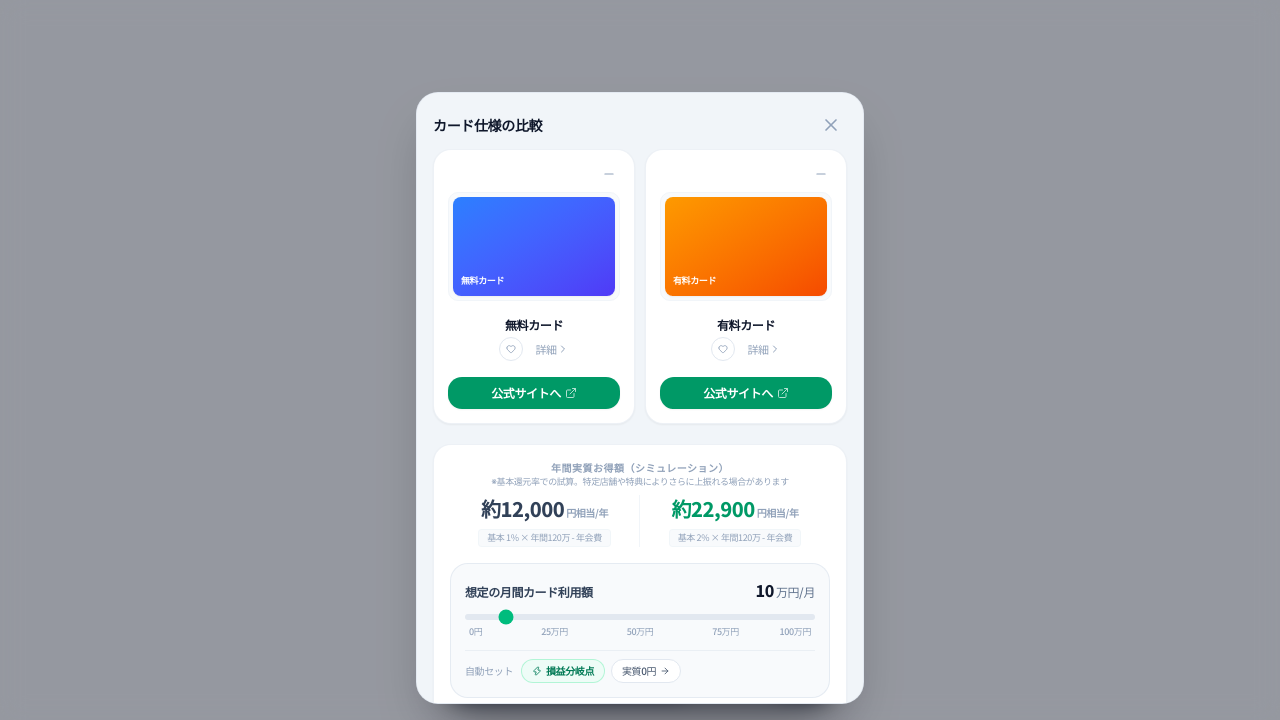
3. CompareBottomSheet (スライダー & 動的損益計算) テスト › 2. スライダー操作時に利用額と年間実質お得額がリアルタイムに更新されること
The width and height of the screenshot is (1280, 720).
# 月間利用額を 20万円（200,000円）に変更
Set the slider to "200000" at (540, 617), box [465,614,815,620]
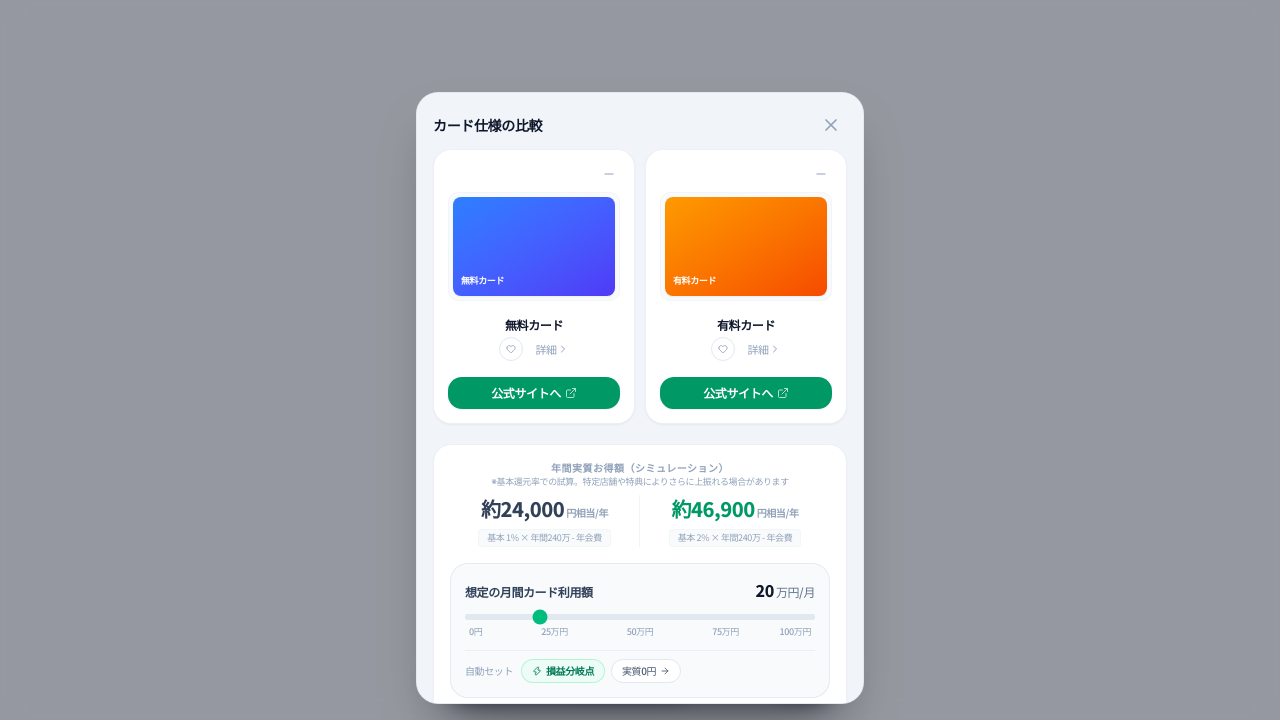
Check: the text "20" is shown, box [756,578,774,602]
Check: the text "約24,000" is shown, box [481,494,564,523]
Check: the text "約46,900" is shown, box [672,494,755,523]
